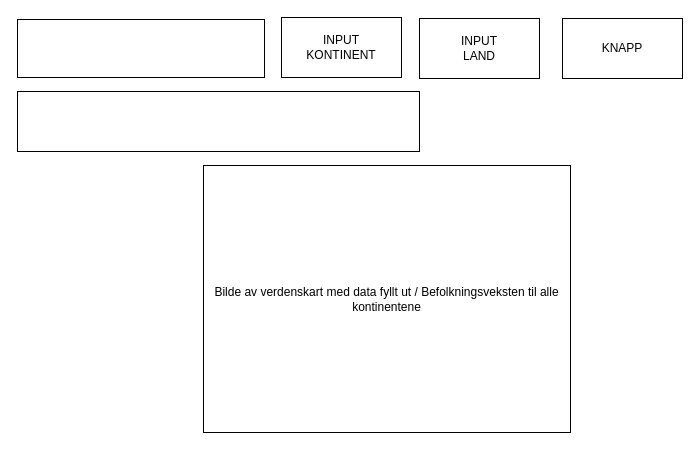
Image size: 700x450. Some labels were removed from this diagram. Each missing label, with the box of its shape:
HEADER: (16, 18, 264, 78)
TEKST SOM FORKLARER HVA BRUKEREN KAN GJLØRE: (16, 90, 420, 152)
